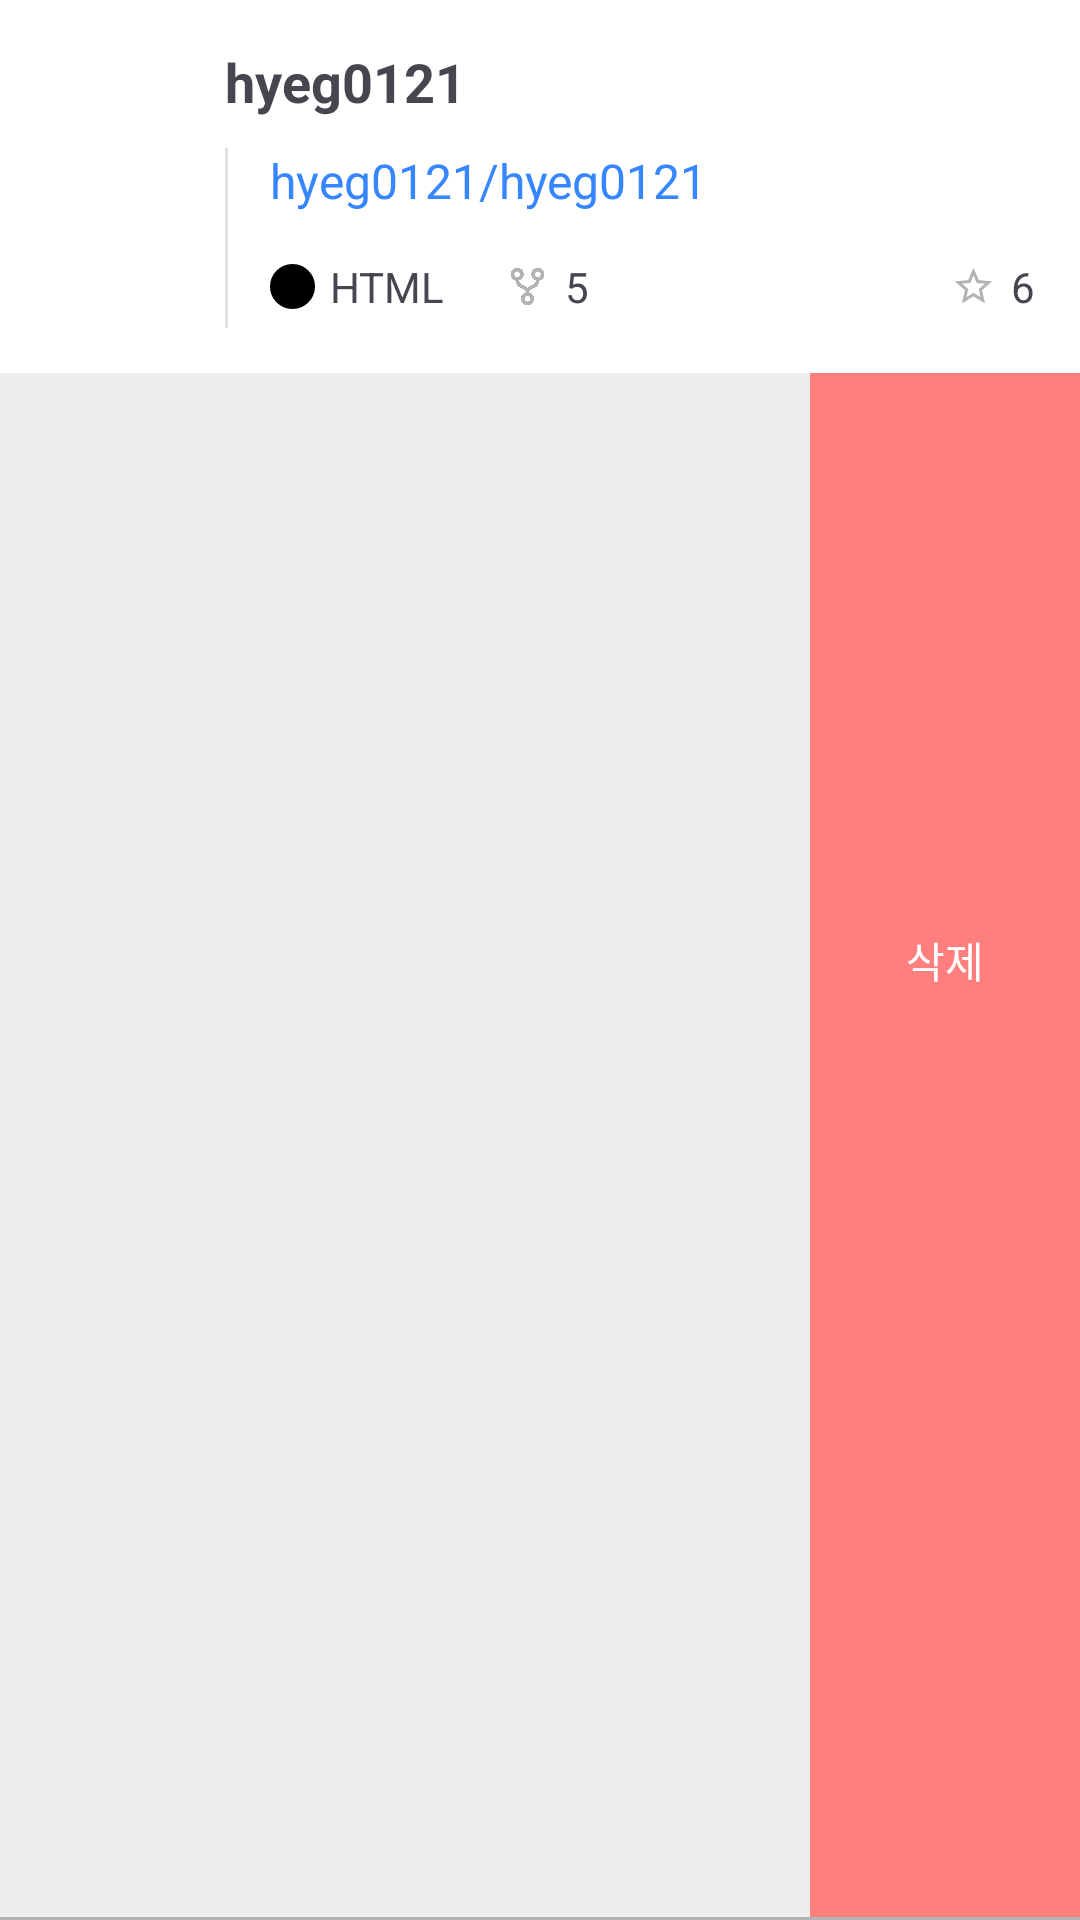

Named icons in this screenshot (1080×1920) and their centers, (x=x, y=y):
forked: (x=527, y=286)
star border: (x=973, y=285)
